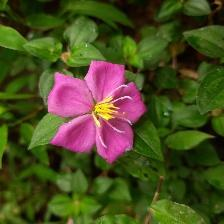malabar melastome: (47, 59, 151, 166)
